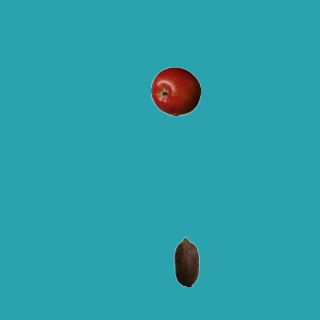Apple Braeburn: (150, 66, 200, 116)
Nut Pecan: (161, 236, 211, 286)
